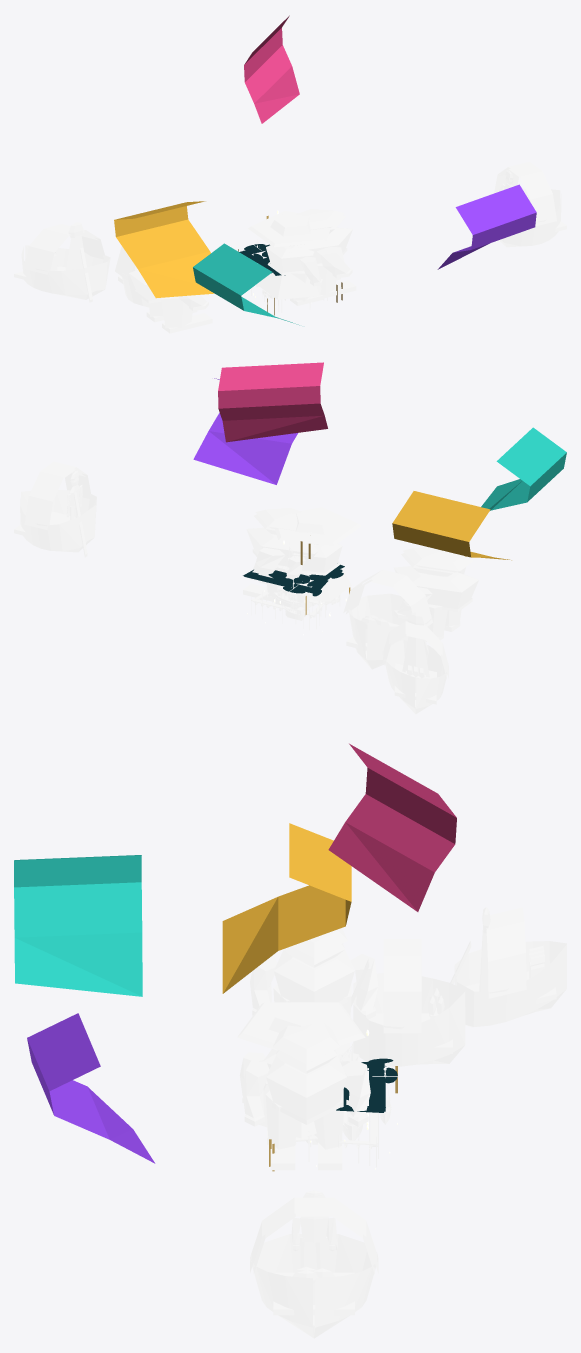
Rendered from ile-marche-v5-leger.glb.
The picture shows the model from 3 angles, top to bottom: view 1: azimuth 30°, elevation 25°; view 2: azimuth 150°, elevation 25°; view 3: azimuth 270°, elevation 25°; orthographic projection. The views are drawn at different scales.
Parts seen in each view (by area): view 1: ile_banniere1.003, ile_anime0.017, ile_anime4.011, ile_banniere3.003, ile_banniere0.005, ile_anime2.017, ile_banniere2.003, ile_anime5.009, ile_anime3.015, ile_anime1.017, ile_libre0.015; view 2: ile_banniere0.005, ile_anime2.017, ile_anime0.017, ile_anime1.017, ile_anime3.015, ile_banniere1.003, ile_anime4.011, ile_banniere2.003, ile_banniere3.003, ile_anime5.009, ile_corps.017, ile_libre0.015; view 3: ile_banniere2.003, ile_anime2.017, ile_anime5.009, ile_banniere0.005, ile_anime1.017, ile_banniere1.003, ile_anime0.017, ile_anime3.015, ile_banniere3.003, ile_anime4.011, ile_corps.017, ile_libre0.015.
Boxes of the visible parts, x1,y1,x2,y2 form: ile_banniere1.003: [114, 201, 214, 298]; ile_anime0.017: [14, 222, 110, 302]; ile_anime4.011: [248, 211, 330, 305]; ile_banniere3.003: [437, 184, 536, 269]; ile_banniere0.005: [244, 15, 299, 123]; ile_anime2.017: [489, 162, 566, 247]; ile_banniere2.003: [193, 243, 299, 325]; ile_anime5.009: [289, 209, 356, 298]; ile_anime3.015: [129, 270, 212, 333]; ile_anime1.017: [115, 246, 148, 307]; ile_libre0.015: [239, 244, 285, 275]; ile_banniere0.005: [218, 362, 327, 442]; ile_anime2.017: [14, 461, 96, 557]; ile_anime0.017: [382, 612, 448, 714]; ile_anime1.017: [343, 569, 432, 669]; ile_anime3.015: [393, 547, 478, 641]; ile_banniere1.003: [392, 491, 511, 560]; ile_anime4.011: [275, 507, 361, 607]; ile_banniere2.003: [481, 427, 566, 510]; ile_banniere3.003: [193, 378, 297, 484]; ile_anime5.009: [243, 508, 318, 601]; ile_corps.017: [251, 542, 340, 630]; ile_libre0.015: [243, 564, 344, 596]; ile_banniere2.003: [14, 855, 142, 996]; ile_anime2.017: [250, 1190, 378, 1338]; ile_anime5.009: [242, 1022, 370, 1170]; ile_banniere0.005: [328, 743, 456, 911]; ile_anime1.017: [351, 939, 465, 1066]; ile_banniere1.003: [222, 823, 351, 993]; ile_anime0.017: [450, 907, 566, 1027]; ile_anime3.015: [250, 928, 378, 1054]; ile_banniere3.003: [27, 1013, 155, 1163]; ile_anime4.011: [237, 1002, 365, 1144]; ile_corps.017: [274, 1043, 397, 1167]; ile_libre0.015: [336, 1058, 397, 1112].
Size of the model in its own units: 12.99 by 6.5 by 8.59.
